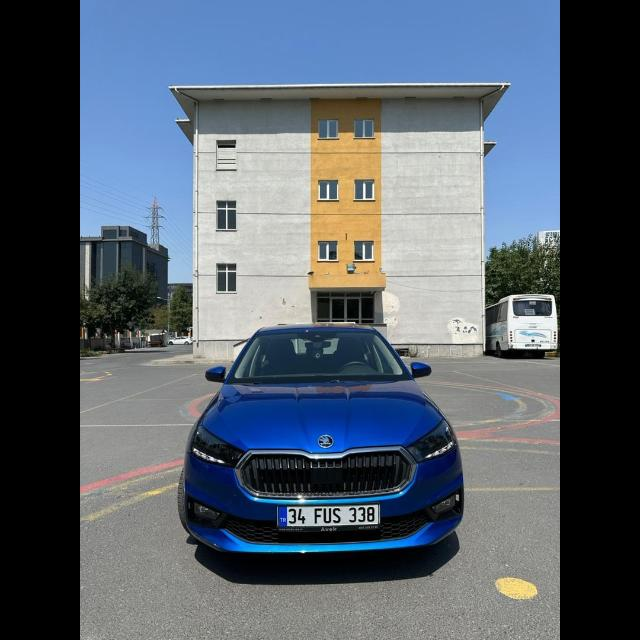Plaka: (280, 502, 380, 526)
